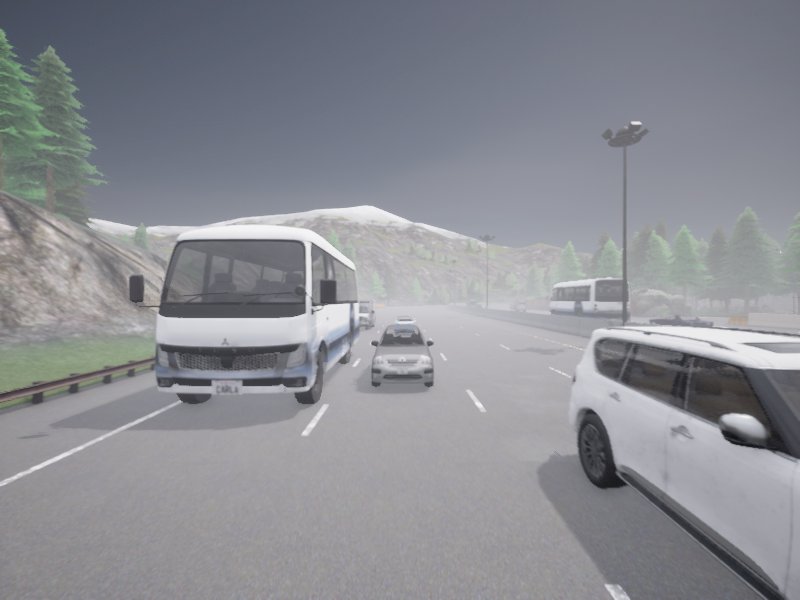vehicle: (569, 326, 799, 599), (129, 225, 358, 403), (371, 325, 433, 386), (546, 278, 629, 321), (648, 315, 712, 327), (359, 300, 375, 330), (509, 300, 527, 311), (395, 315, 415, 324), (466, 299, 476, 306), (477, 303, 481, 307)
